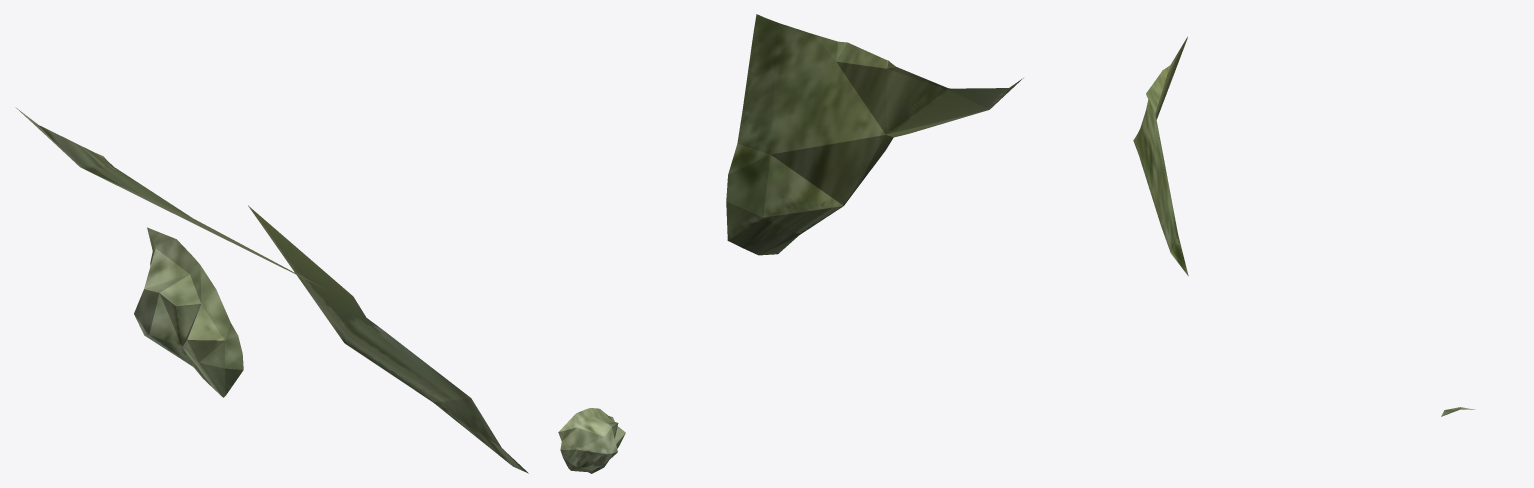
3 renders of one model, left to right at view 1: azimuth 30°, elevation 25°; view 2: azimuth 150°, elevation 25°; view 3: azimuth 270°, elevation 25°, orthographic. The views are drawn at different scales.
Bounding box in the file's own units: 1.49 × 1.84 × 2.24.
Materials: 1 (1 with a texture image).
